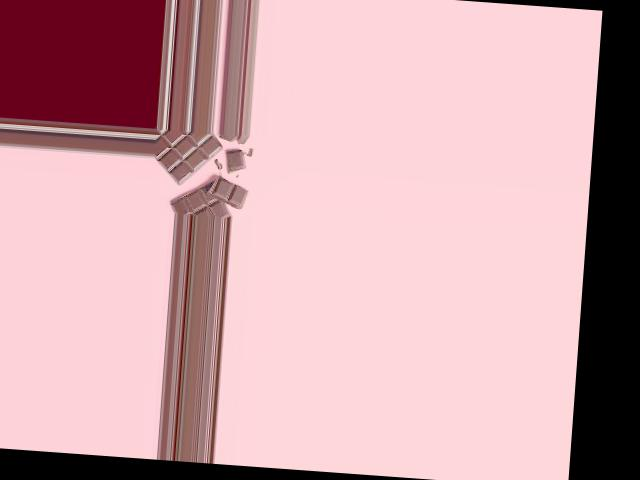chocolate: (149, 129, 246, 213)
